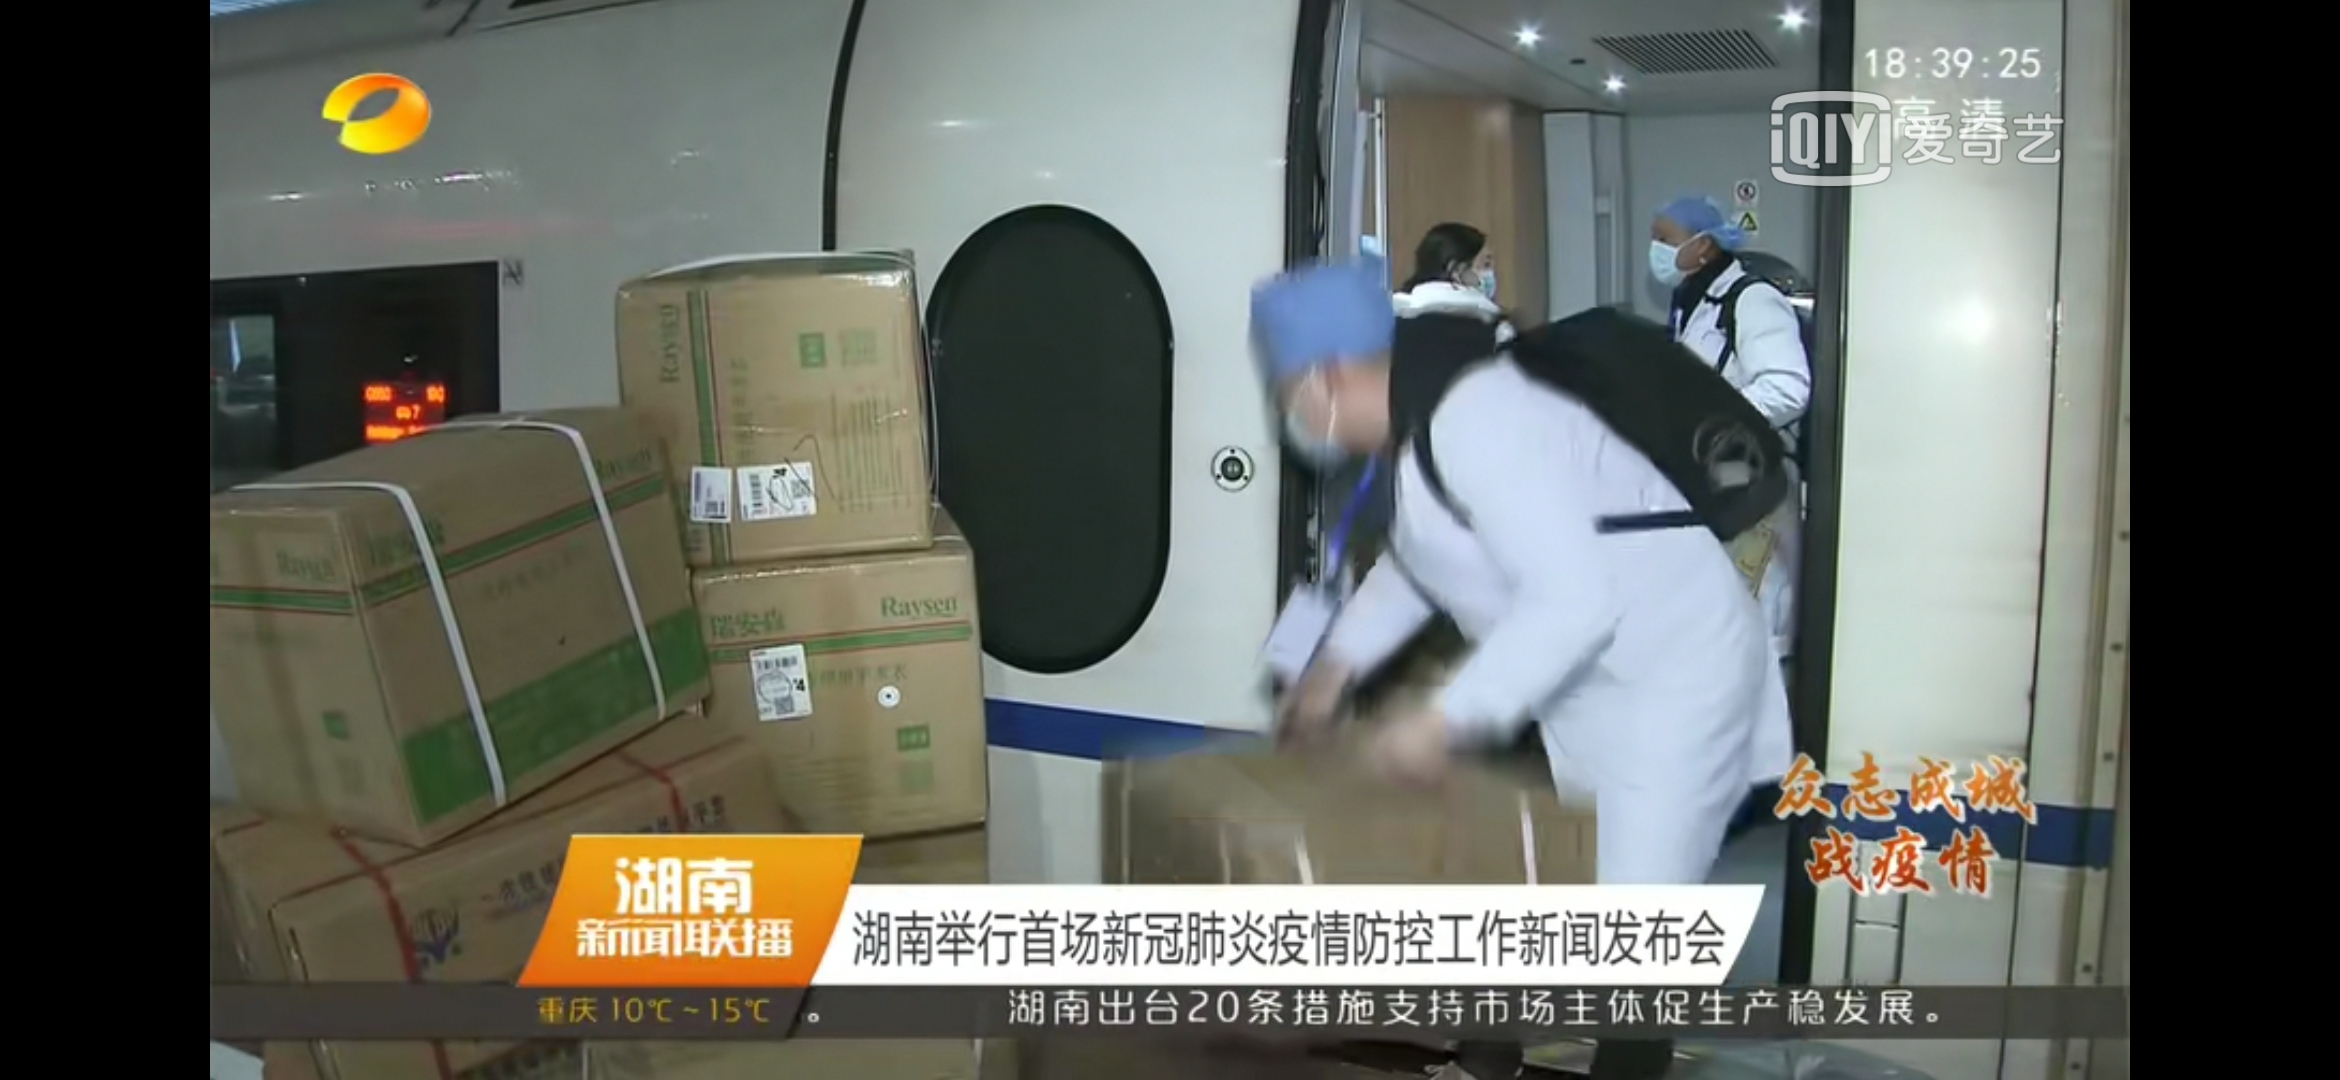correctlyWear: (1268, 340, 1365, 468), (1651, 221, 1712, 291), (1454, 245, 1501, 298)
